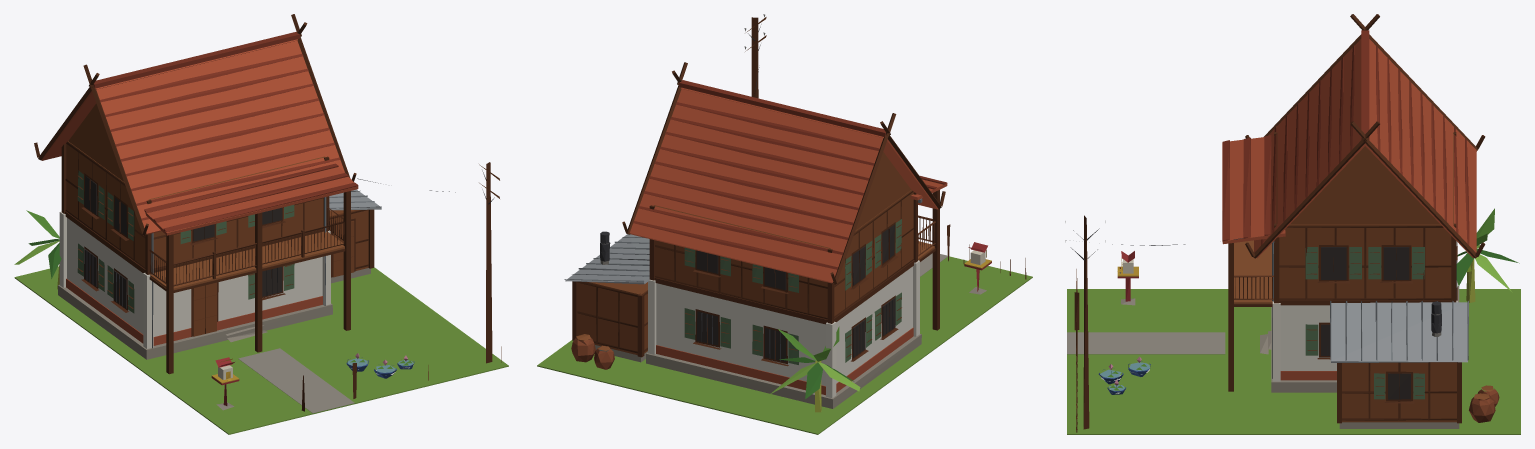
File: house12_2.glb
3 views of the same model, side by side, from view 1: azimuth 30°, elevation 25°; view 2: azimuth 150°, elevation 25°; view 3: azimuth 270°, elevation 25° (orthographic). The views are drawn at different scales.
Visible parts, largest first — view 1: body, windows; view 2: body, windows; view 3: body, windows.
Part boxes in pixels (box(x1,y1,x2,y2)): body: box(14, 14, 508, 434); windows: box(84, 176, 282, 308); body: box(537, 14, 1032, 434); windows: box(696, 224, 895, 361); body: box(1065, 14, 1520, 434); windows: box(1321, 247, 1410, 399).
Bounding box in the file's own units: 12.89 × 10.75 × 16.1.
